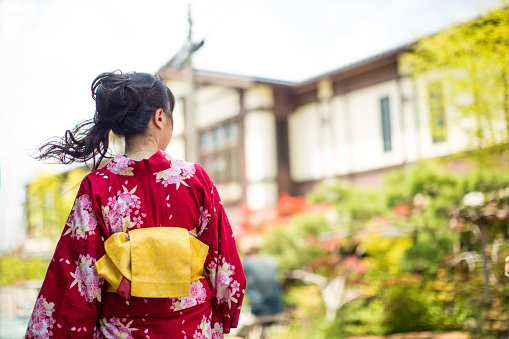em pe: (27, 58, 245, 335)
